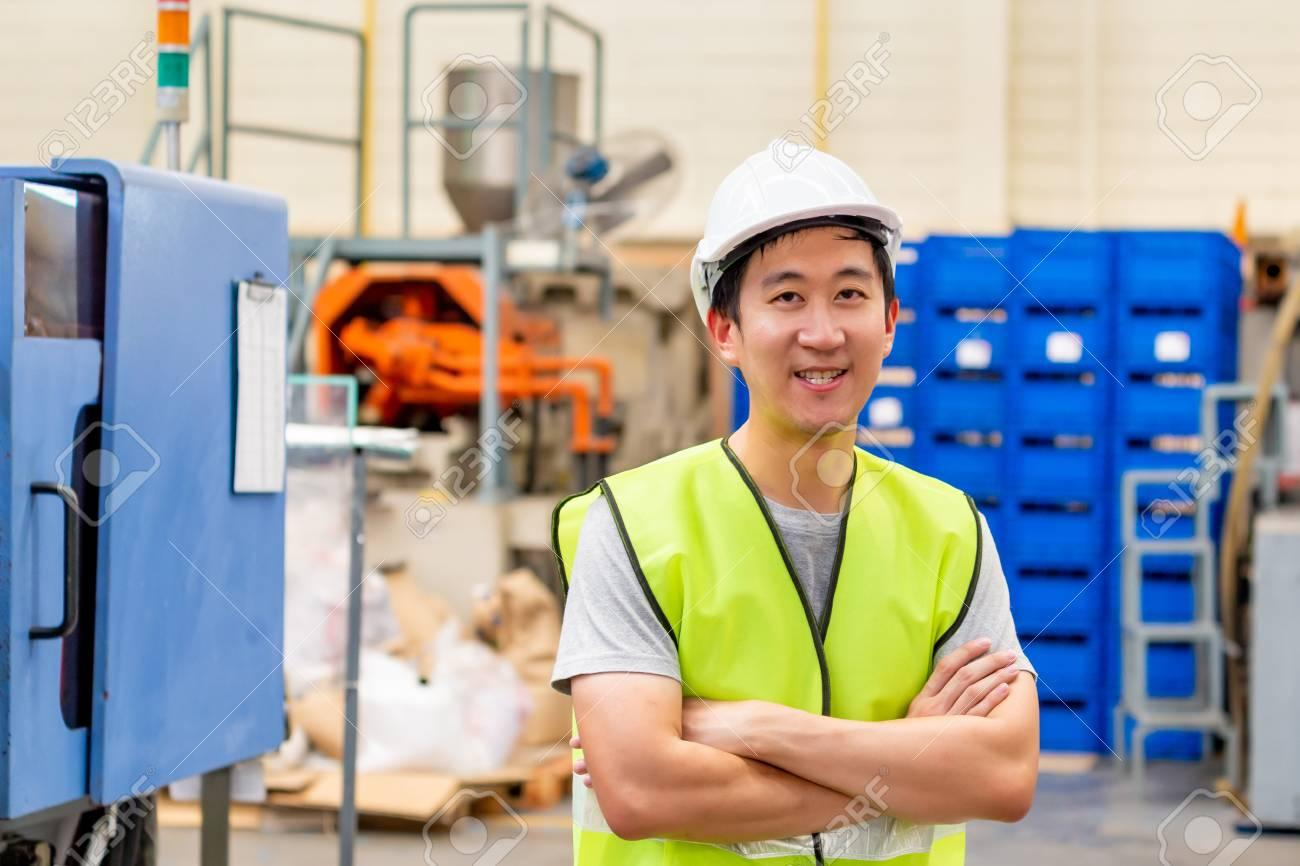helmet: (694, 144, 906, 319)
